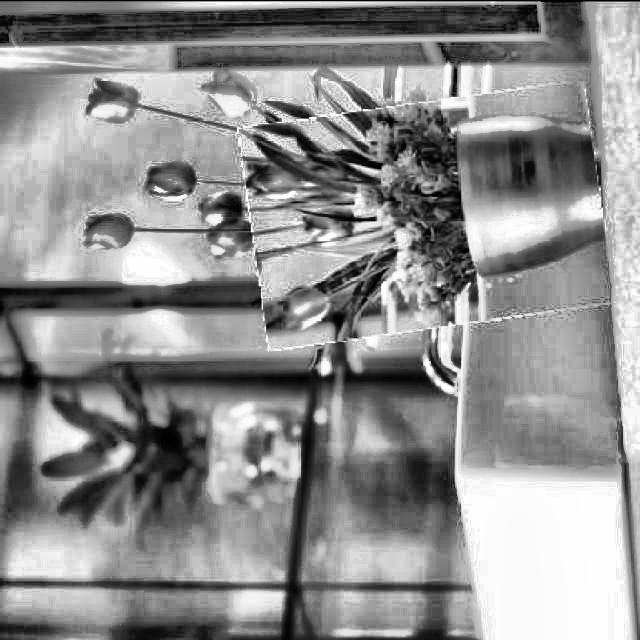plants: (244, 90, 607, 338)
